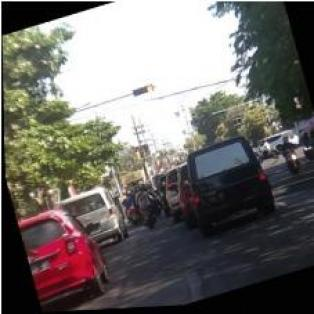Semaforo Rojo: (131, 86, 151, 98)
